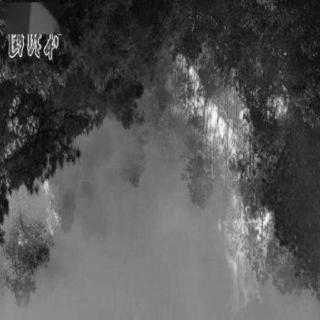Fire: (4, 176, 63, 267)
